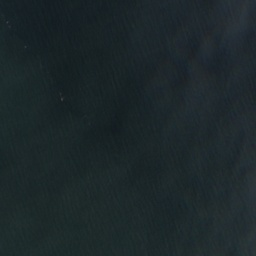Marine Debris: (0, 13, 10, 26), (57, 90, 66, 104), (24, 46, 27, 48)
